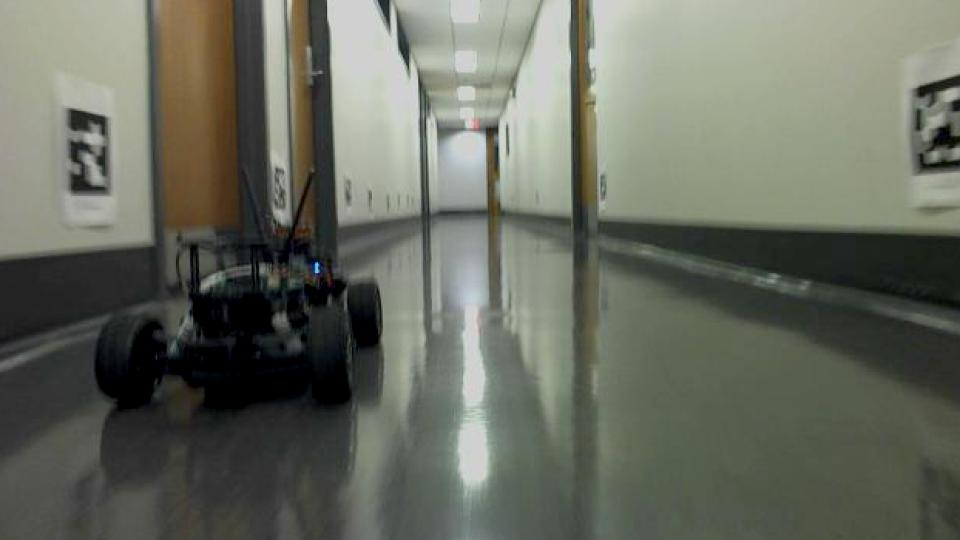car: (89, 163, 386, 410)
